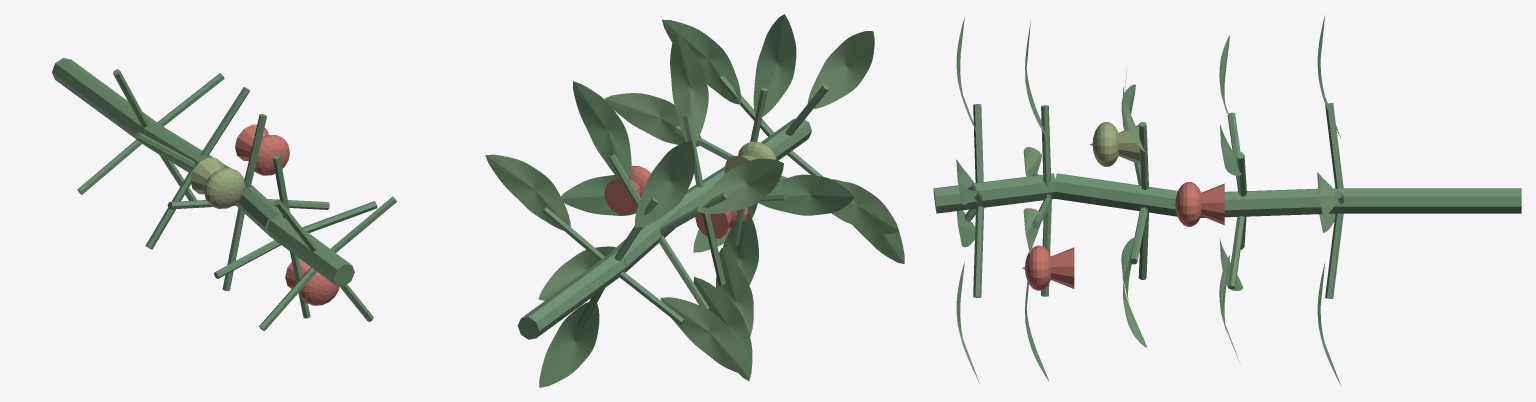
The model's file is pepper_c.glb.
3 views of the same model, side by side, from view 1: azimuth 30°, elevation 25°; view 2: azimuth 150°, elevation 25°; view 3: azimuth 270°, elevation 25° (orthographic). The views are drawn at different scales.
Parts seen in each view (by area): view 1: Stem, FruitRed, FruitGreen; view 2: Leaves, Stem, FruitRed, FruitGreen; view 3: Stem, Leaves, FruitRed, FruitGreen.
Boxes of the visible parts, bbox=[...] form: Stem: bbox=[52, 58, 397, 330]; FruitRed: bbox=[235, 124, 339, 305]; FruitGreen: bbox=[190, 158, 245, 208]; Leaves: bbox=[485, 14, 904, 387]; Stem: bbox=[517, 75, 829, 339]; FruitRed: bbox=[604, 165, 748, 238]; FruitGreen: bbox=[724, 141, 776, 173]; Stem: bbox=[933, 103, 1521, 298]; Leaves: bbox=[956, 14, 1341, 386]; FruitRed: bbox=[1022, 182, 1224, 290]; FruitGreen: bbox=[1089, 122, 1140, 166].
Size of the model in its own units: 0.4911 by 0.4892 by 0.7824.
